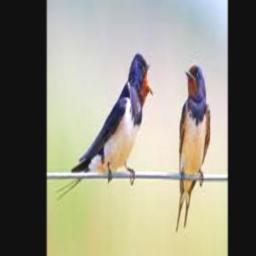Swallow: (56, 52, 155, 200), (177, 61, 210, 232)
